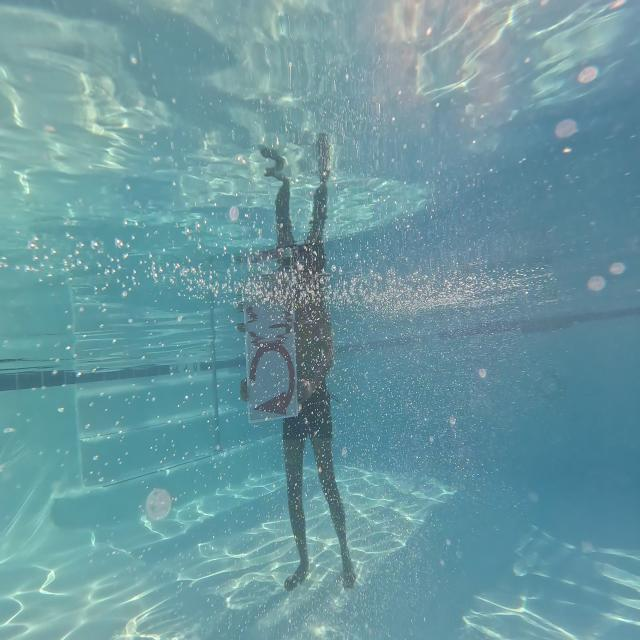red_side: (240, 334, 306, 434)
